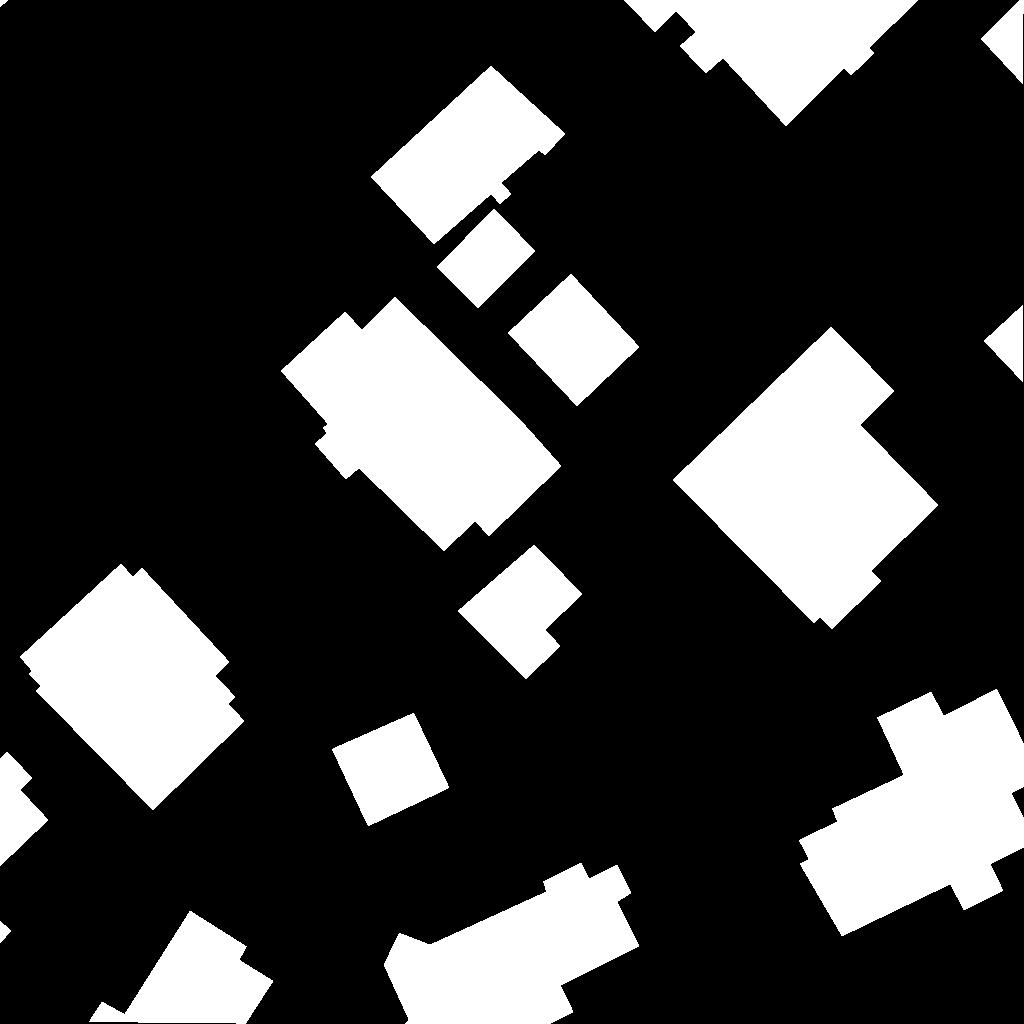building: (673, 327, 939, 630), (281, 297, 562, 552), (799, 689, 1024, 937), (20, 564, 245, 811), (384, 863, 640, 1024), (624, 0, 919, 127), (371, 66, 566, 245), (89, 911, 274, 1024), (508, 274, 640, 407), (458, 545, 583, 680), (332, 713, 450, 827), (437, 209, 536, 309), (0, 752, 49, 867), (981, 0, 1024, 85), (984, 305, 1024, 383), (0, 921, 12, 944), (0, 0, 9, 8)
